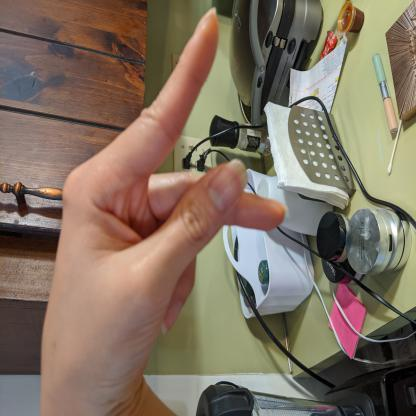P: (35, 4, 290, 380)
